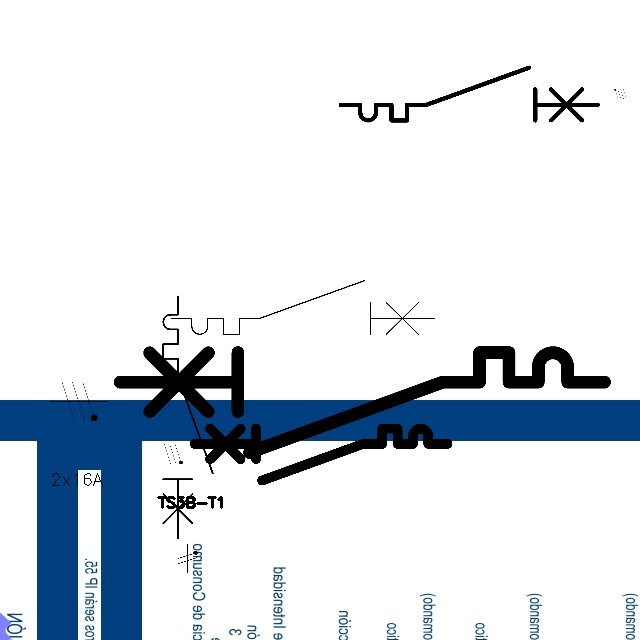interruptor_termomagnetico: (107, 340, 616, 464), (165, 274, 440, 341), (334, 61, 604, 127), (188, 422, 454, 487), (157, 290, 219, 544)
